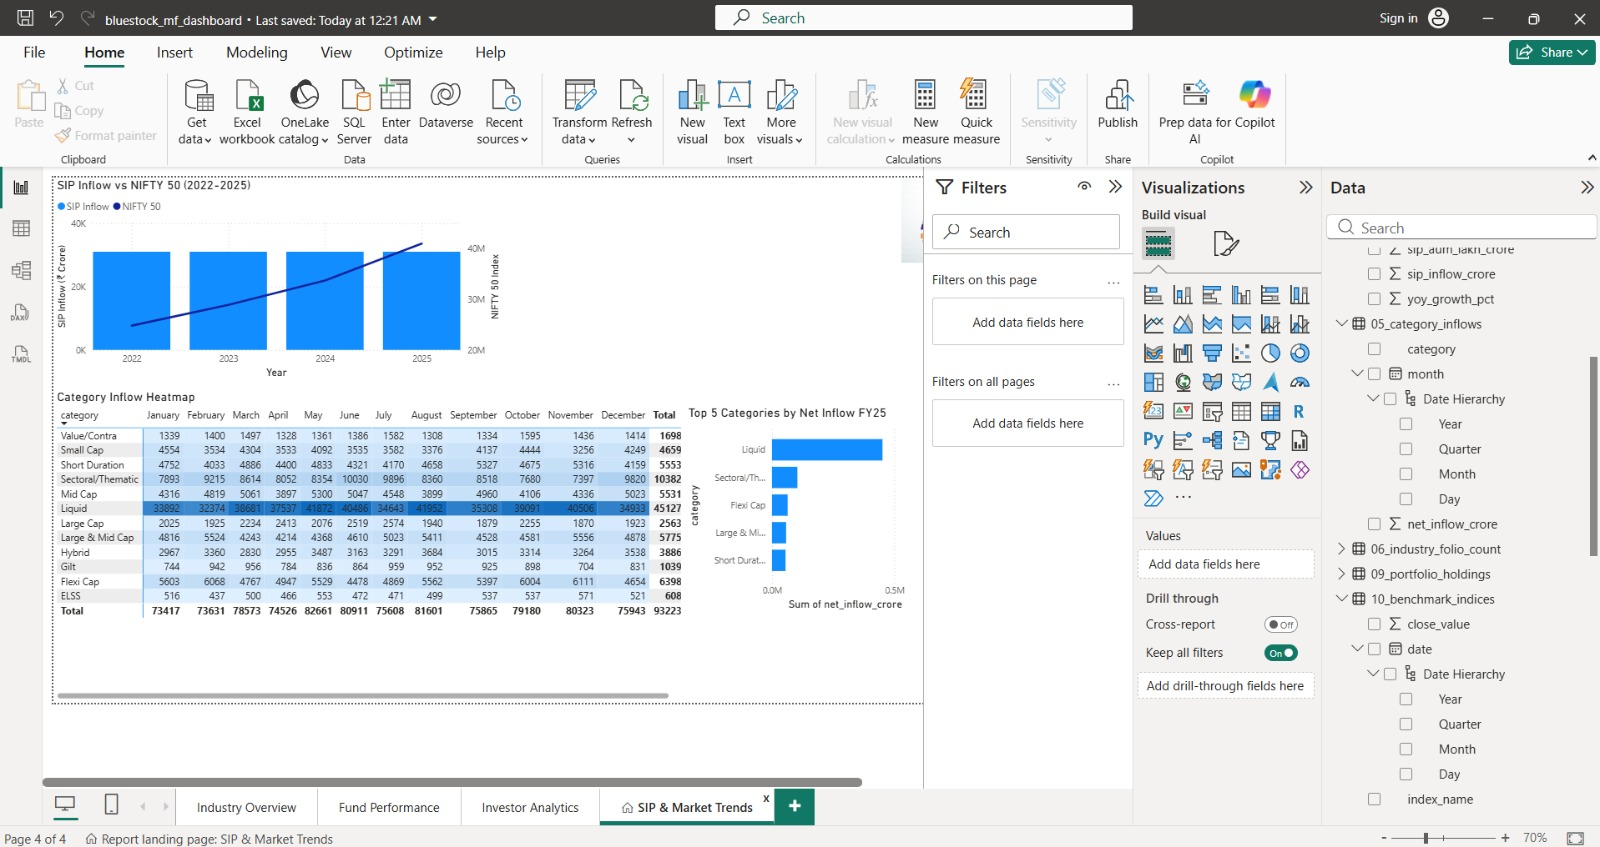

The dashboard page shown, as its layout file describes it:
{"tool":"powerbi","page":{"name":"SIP & Market Trends","canvas":[1280,720],"ordinal":3},"visuals":[{"type":"lineClusteredColumnComboChart","title":"SIP Inflow vs NIFTY 50 (2022-2025)","fields":{"Y":["04_monthly_sip_inflows.SIP Inflow"],"Y2":["Sum(10_benchmark_indices.close_value)"],"Category":["10_benchmark_indices.date.Variation.Date Hierarchy.Year"]},"box":[0,0,615.7,280],"z":0},{"type":"pivotTable","title":"Category Inflow Heatmap","fields":{"Rows":["05_category_inflows.category"],"Columns":["05_category_inflows.month.Variation.Date Hierarchy.Month"],"Values":["Sum(05_category_inflows.net_inflow_crore)"]},"box":[0,290,864.3,430],"z":1000},{"type":"clusteredBarChart","title":"Top 5 Categories by Net Inflow FY25","fields":{"Category":["05_category_inflows.category"],"Y":["Sum(05_category_inflows.net_inflow_crore)"]},"box":[864.3,311.4,340,287.1],"z":2000},{"type":"image","box":[1158.6,0,121.4,117.1],"z":3000}]}

Visuals, with their boxes on the page's 1280x720 design canvas (x1, y1, x2, y2). These are canvas units, not pixel positions in the 1600x847 screenshot, which may show the page scaled, cropped or inside an application window:
"SIP Inflow vs NIFTY 50 (2022-2025)" lineClusteredColumnComboChart: 0/0/616/280
"Category Inflow Heatmap" pivotTable: 0/290/864/720
"Top 5 Categories by Net Inflow FY25" clusteredBarChart: 864/311/1204/598
image: 1159/0/1280/117
